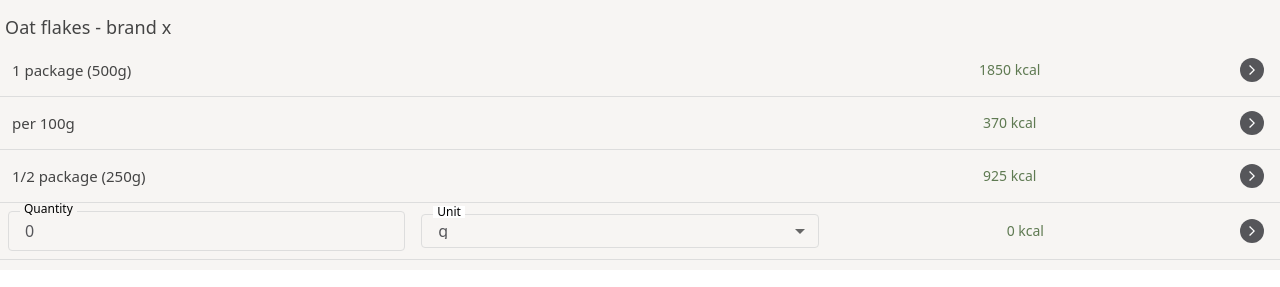
ProductCard › custom quantity input › updates calorie display when quantity is entered
Replace the text in the number field with "200". click: (207, 231)
box: [8,211,405,251]
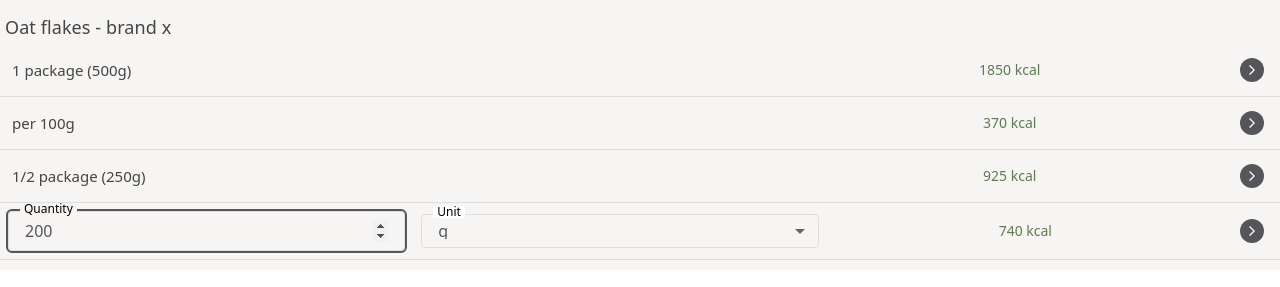
Result: the text "740 kcal" is shown at [999,221,1052,240]
